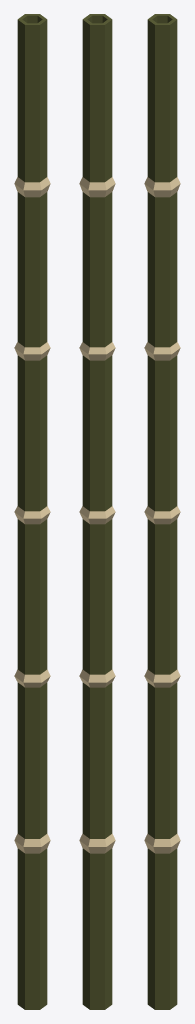
File: Bamboo_02.glb
The picture shows the model from 3 angles, left to right: view 1: azimuth 90°, elevation 25°; view 2: azimuth 210°, elevation 25°; view 3: azimuth 270°, elevation 25°; orthographic projection.
Parts seen in each view (by area): view 1: Bamboo_02; view 2: Bamboo_02; view 3: Bamboo_02.
Part boxes in pixels (bbox=[...]): Bamboo_02: bbox=[14, 14, 50, 1009]; Bamboo_02: bbox=[79, 14, 115, 1009]; Bamboo_02: bbox=[144, 14, 180, 1009].
Size of what is drawn, in the model's own units: 0.1068 by 3.68 by 0.1233.
1 material, 1 textured.
